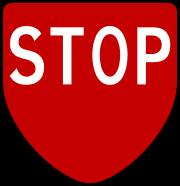Stop: (4, 10, 170, 122)
